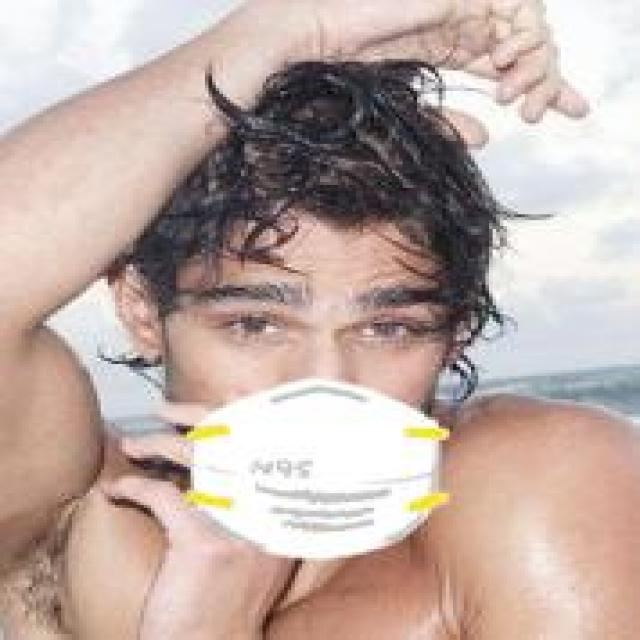mask: (72, 68, 492, 522)
